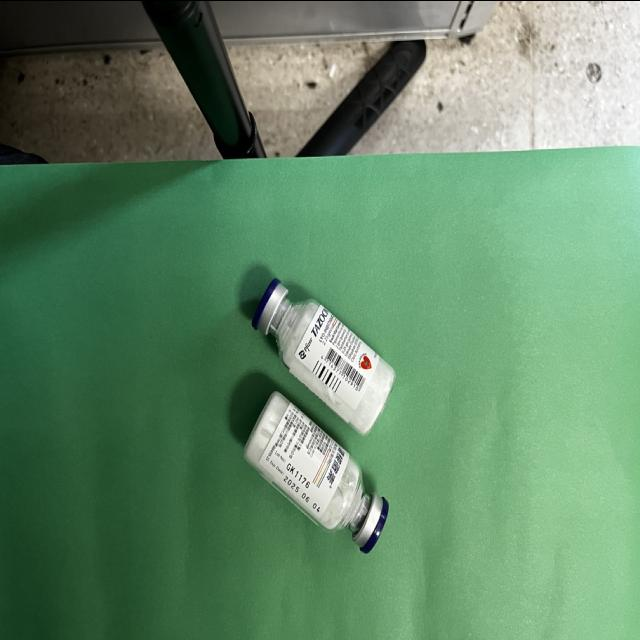Vials: (244, 391, 389, 552), (253, 279, 394, 433)
